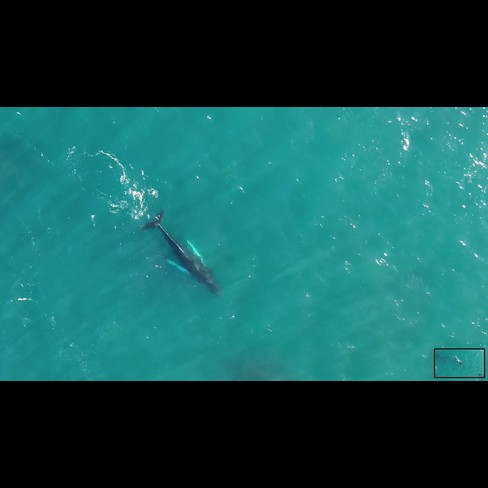hump: (138, 203, 228, 304)
